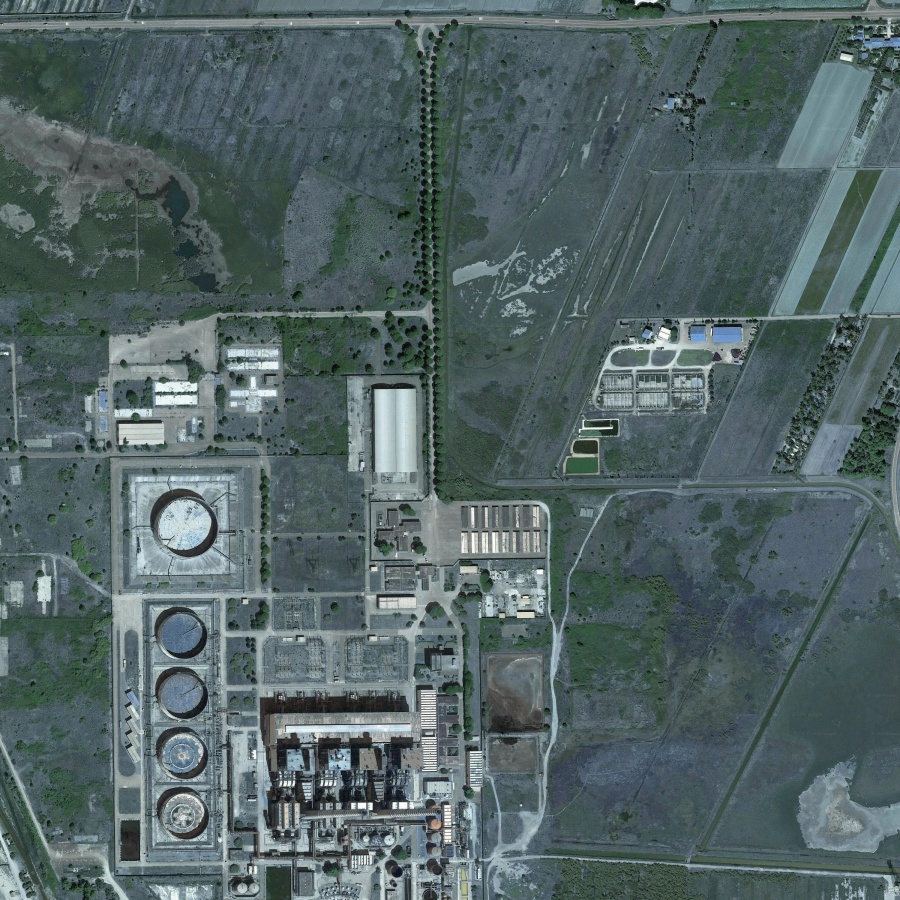PowerPlant: (107, 458, 256, 873)
